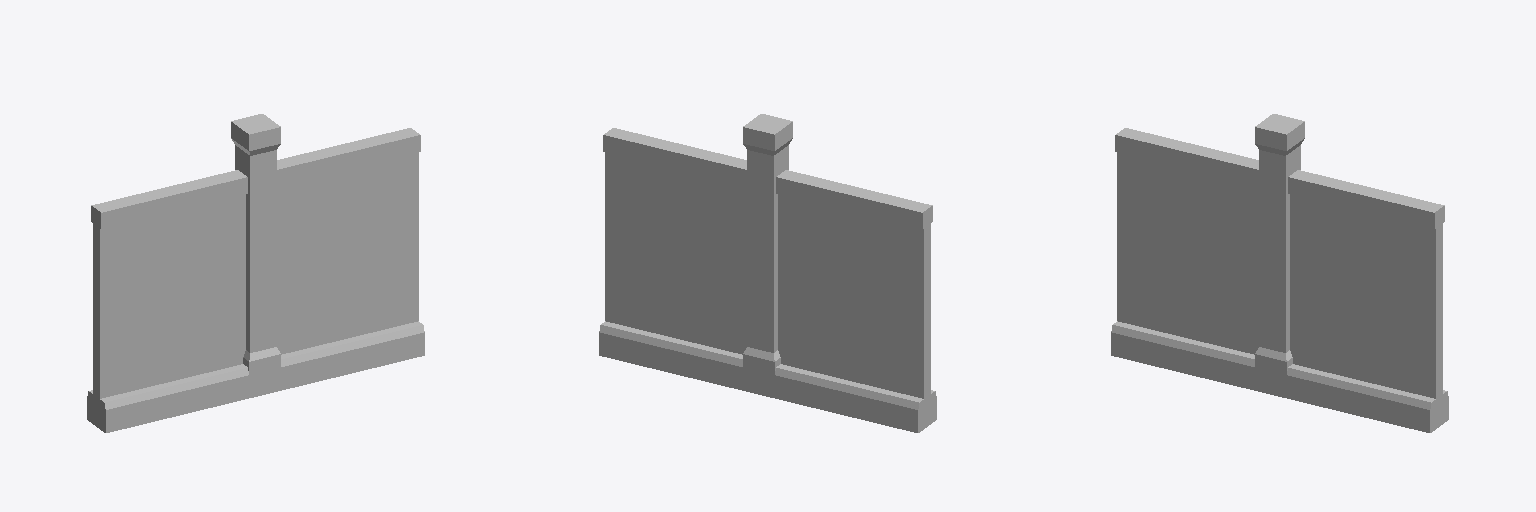
The model's file is stoneWallColumn.obj.
3 renders of one model, left to right at view 1: azimuth 30°, elevation 25°; view 2: azimuth 150°, elevation 25°; view 3: azimuth 330°, elevation 25°, orthographic.
Visible parts, largest first — view 1: stoneWallColumn; view 2: stoneWallColumn; view 3: stoneWallColumn.
Boxes of the visible parts, box(x1,y1,x2,y2) form: stoneWallColumn: box(87, 114, 424, 432); stoneWallColumn: box(599, 114, 936, 432); stoneWallColumn: box(1111, 114, 1448, 432).
Size of the model in its own units: 1 by 0.79 by 0.1.